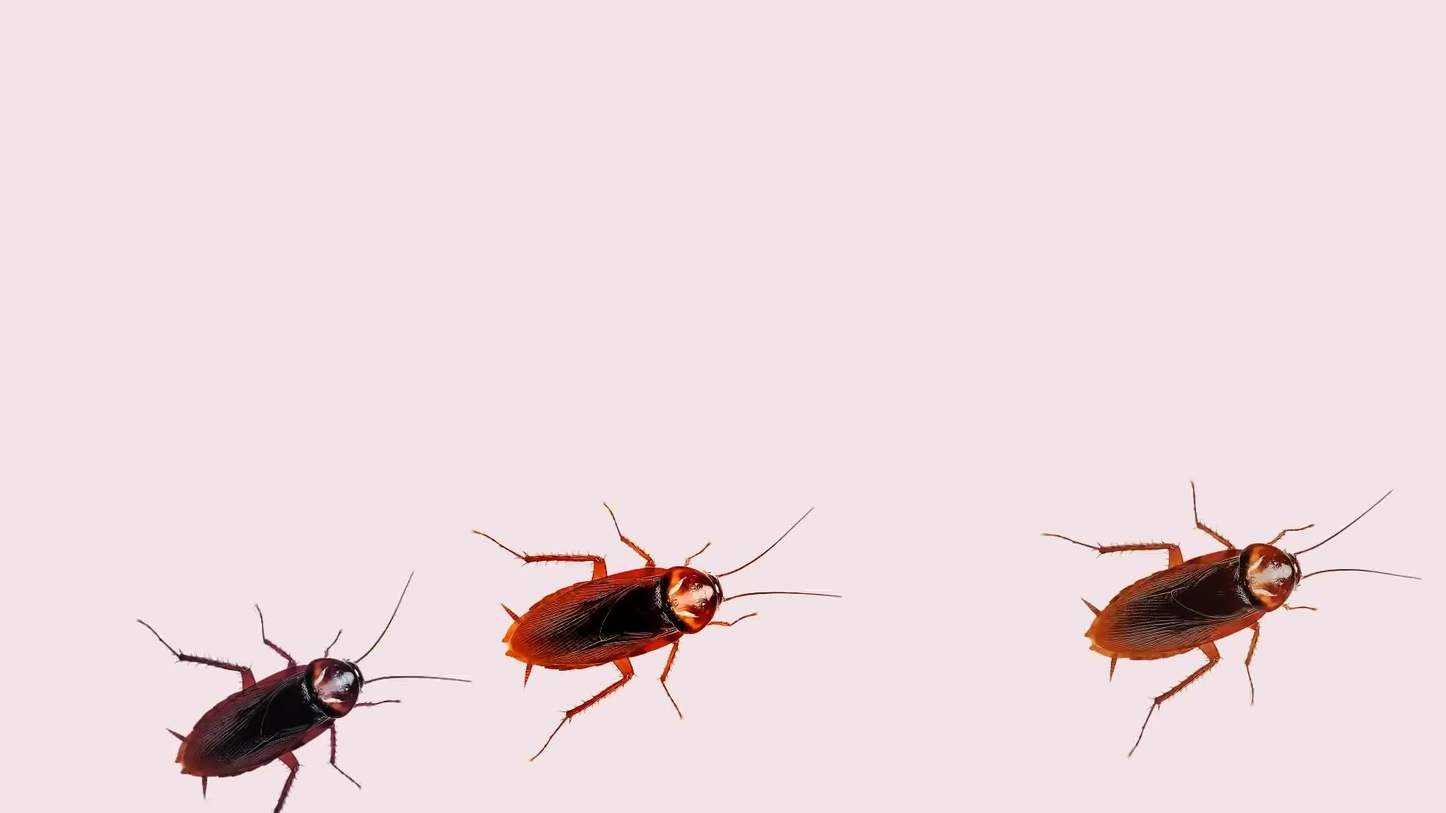cockroach: (1049, 514, 1349, 711), (503, 522, 784, 729), (132, 621, 417, 813)
